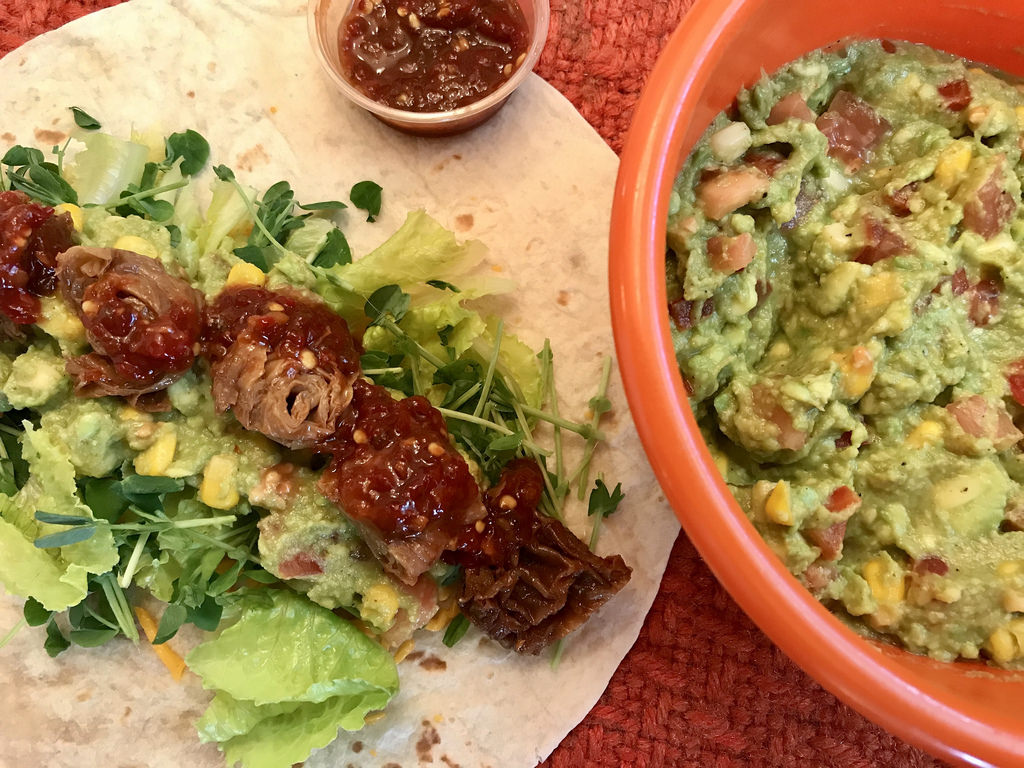chopped lettuce: (47, 420, 324, 714)
